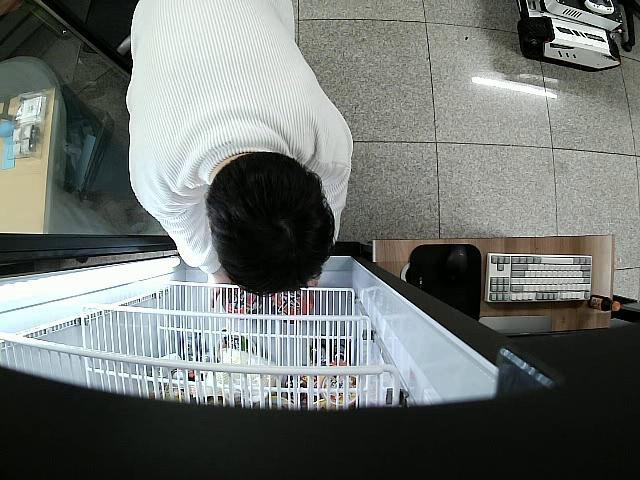01_ShinRamen_L: (223, 290, 253, 312)
